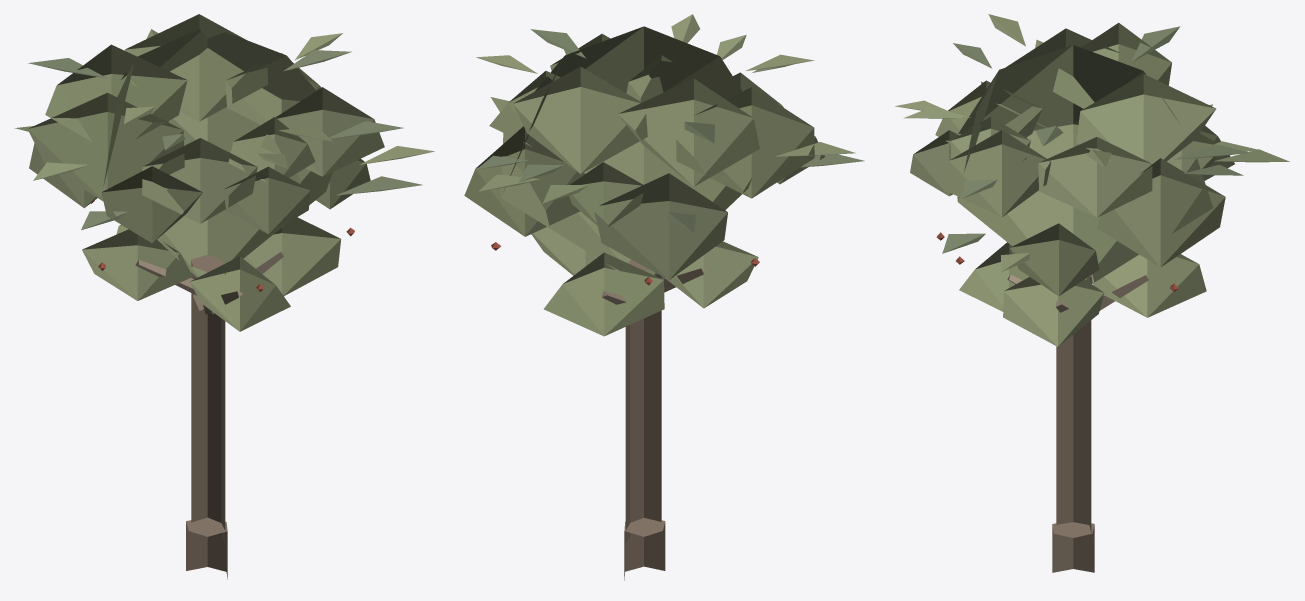
Rendered from shu.longnao@fruiting__winter.glb.
The picture shows the model from 3 angles, left to right: view 1: azimuth 30°, elevation 25°; view 2: azimuth 150°, elevation 25°; view 3: azimuth 270°, elevation 25°; orthographic projection. The views are drawn at different scales.
Parts seen in each view (by area): view 1: shu.longnao@fruiting__winter; view 2: shu.longnao@fruiting__winter; view 3: shu.longnao@fruiting__winter.
Part boxes in pixels (x1,y1,x2,y2): shu.longnao@fruiting__winter: (14, 14, 434, 579); shu.longnao@fruiting__winter: (464, 14, 864, 580); shu.longnao@fruiting__winter: (895, 14, 1289, 572).
Bounding box in the file's own units: 21.86 × 29.23 × 19.99.
